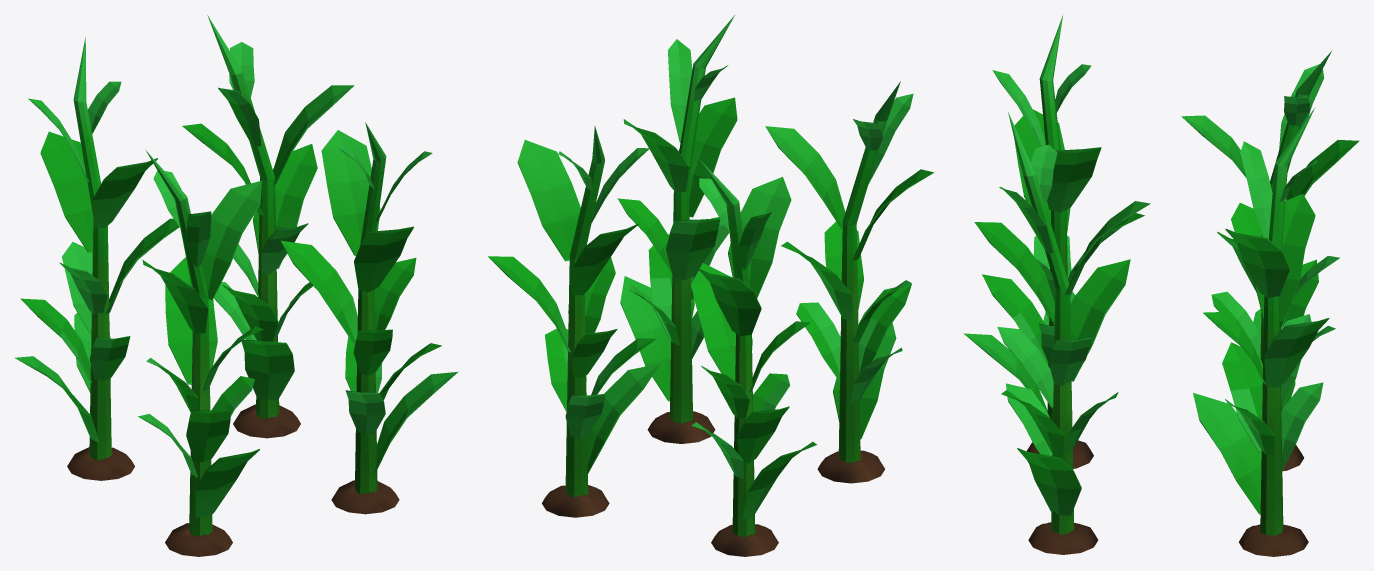
The model's file is Corn5.fbx.
The picture shows the model from 3 angles, left to right: view 1: azimuth 30°, elevation 25°; view 2: azimuth 150°, elevation 25°; view 3: azimuth 270°, elevation 25°; orthographic projection. The views are drawn at different scales.
Visible parts, largest first — view 1: 4.001; view 2: 4.001; view 3: 4.001.
Part boxes in pixels (x1=…): 4.001: x1=14, y1=15, x2=458, y2=556; 4.001: x1=488, y1=15, x2=933, y2=556; 4.001: x1=963, y1=14, x2=1359, y2=556.
Size of the model in its own units: 172 by 208 by 180.
